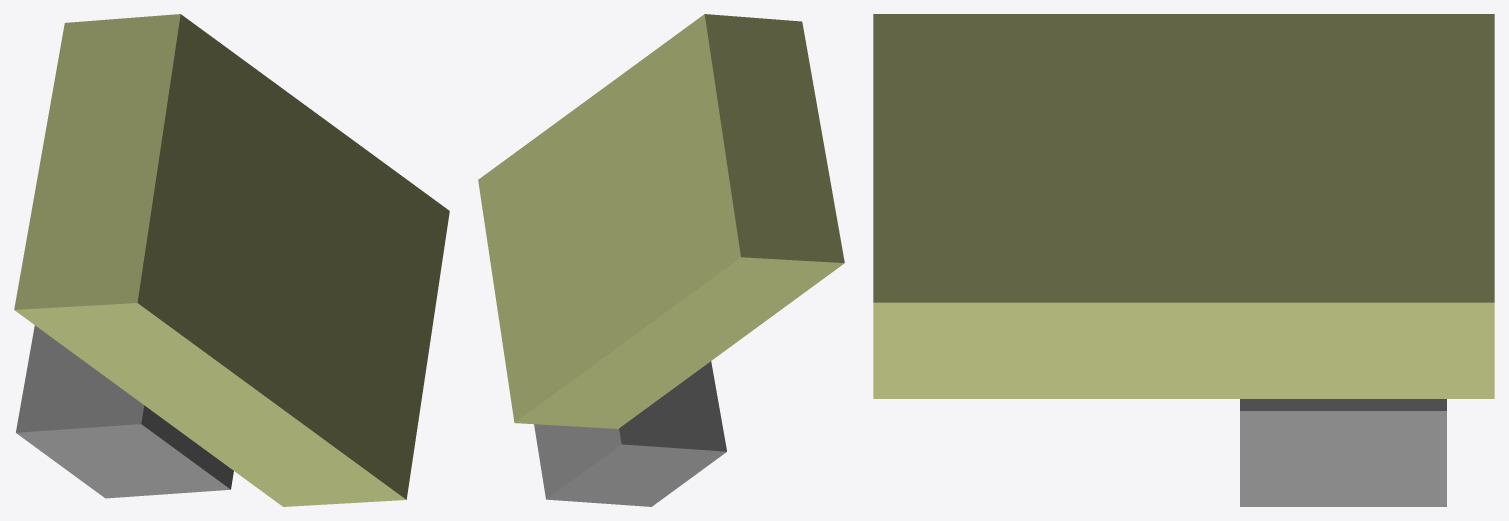
The picture shows the model from 3 angles, left to right: view 1: azimuth 30°, elevation 25°; view 2: azimuth 150°, elevation 25°; view 3: azimuth 270°, elevation 25°; orthographic projection. The views are drawn at different scales.
Parts seen in each view (by area): view 1: 0_1_1_3_3_1_1_3_3_0_2; view 2: 0_1_1_3_3_1_1_3_3_0_2; view 3: 0_1_1_3_3_1_1_3_3_0_2.
Boxes of the visible parts, bbox=[...] form: 0_1_1_3_3_1_1_3_3_0_2: bbox=[14, 14, 449, 506]; 0_1_1_3_3_1_1_3_3_0_2: bbox=[478, 14, 844, 506]; 0_1_1_3_3_1_1_3_3_0_2: bbox=[873, 14, 1494, 506].
Size of the model in its own units: 3.58 by 7.37 by 9.
